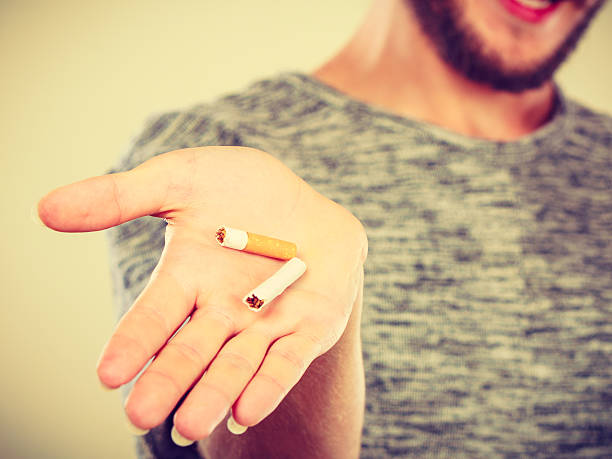cigarette: (242, 257, 308, 312), (216, 224, 298, 262)
